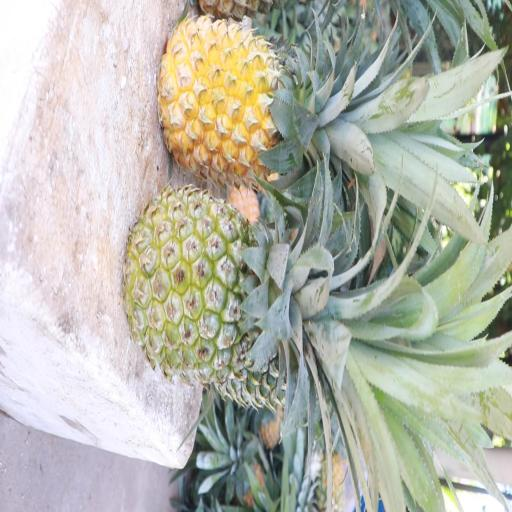------------------------------: (126, 188, 313, 382)
Pineapple - v8 v1: (164, 14, 323, 168)
